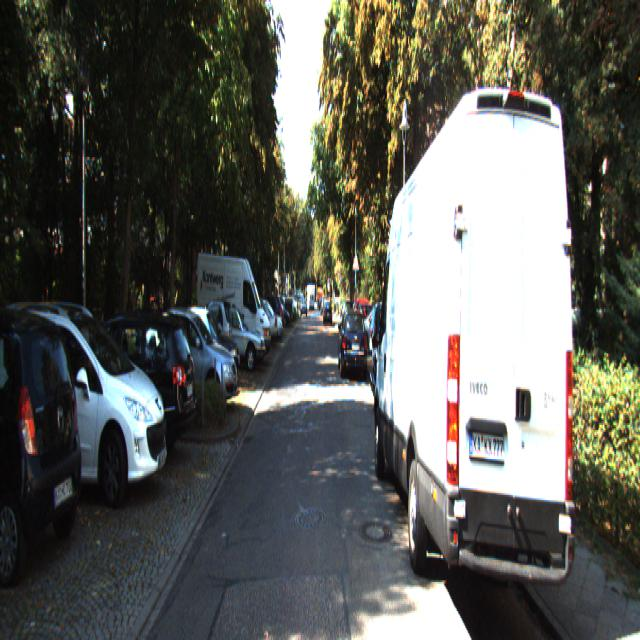Car: (374, 75, 580, 638), (0, 289, 169, 513), (45, 303, 198, 468), (0, 298, 86, 579), (142, 297, 240, 410), (194, 248, 272, 370), (202, 299, 266, 370), (338, 307, 368, 381)
